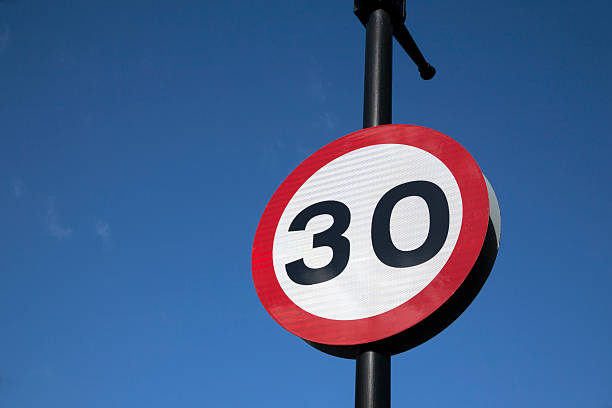Speed_limit_30km: (251, 121, 492, 354)
